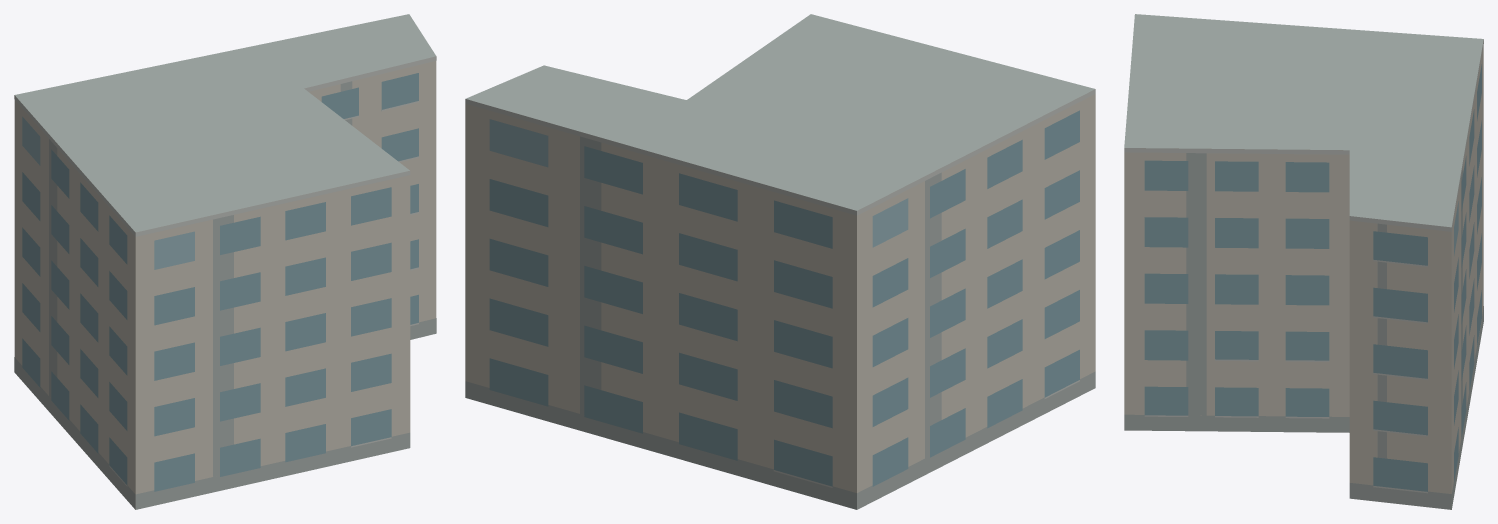
The model's file is residential-c5ba9b23-7126-4996-b4d4-12eae4231a28.glb.
3 renders of one model, left to right at view 1: azimuth 30°, elevation 25°; view 2: azimuth 150°, elevation 25°; view 3: azimuth 270°, elevation 25°, orthographic. The views are drawn at different scales.
Visible parts, largest first — view 1: residential-c5ba9b23-7126-4996-b4d4-12eae4231a28.tmp; view 2: residential-c5ba9b23-7126-4996-b4d4-12eae4231a28.tmp; view 3: residential-c5ba9b23-7126-4996-b4d4-12eae4231a28.tmp.
Boxes of the visible parts, x1,y1,x2,y2 form: residential-c5ba9b23-7126-4996-b4d4-12eae4231a28.tmp: (14, 14, 436, 509); residential-c5ba9b23-7126-4996-b4d4-12eae4231a28.tmp: (465, 14, 1095, 509); residential-c5ba9b23-7126-4996-b4d4-12eae4231a28.tmp: (1124, 14, 1483, 509).
Bounding box in the file's own units: 24.71 × 15.25 × 17.6.
